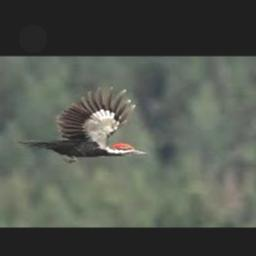Woodpecker: (17, 86, 148, 163)
